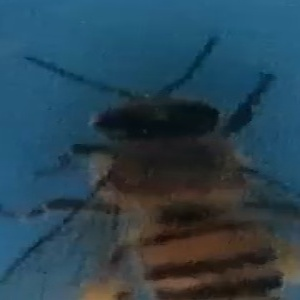bee: (28, 49, 287, 300)
